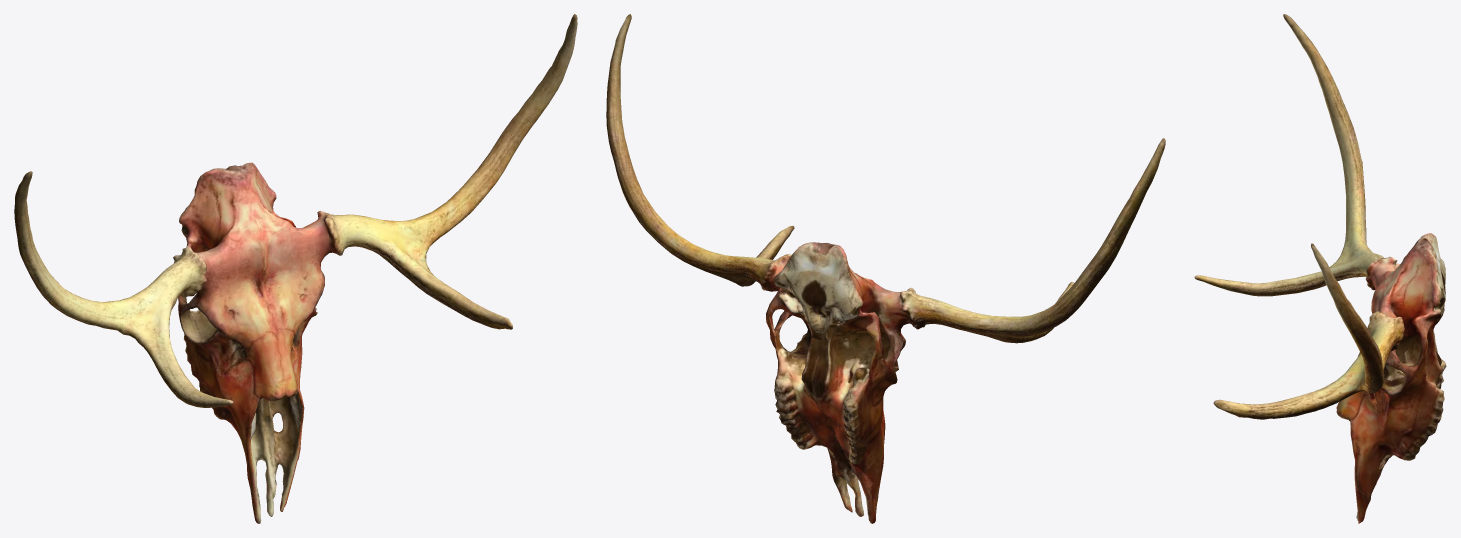
The model's file is s_craneo_ciervo.glb.
The picture shows the model from 3 angles, left to right: view 1: azimuth 30°, elevation 25°; view 2: azimuth 150°, elevation 25°; view 3: azimuth 270°, elevation 25°; orthographic projection. The views are drawn at different scales.
Visible parts, largest first — view 1: Deer_skull__0; view 2: Deer_skull__0; view 3: Deer_skull__0.
Part boxes in pixels (x1=…): Deer_skull__0: x1=14, y1=14, x2=577, y2=523; Deer_skull__0: x1=606, y1=14, x2=1165, y2=523; Deer_skull__0: x1=1194, y1=14, x2=1446, y2=523.
Bounding box in the file's own units: 0.5 × 0.3831 × 0.2199.
1 material, 1 textured.
